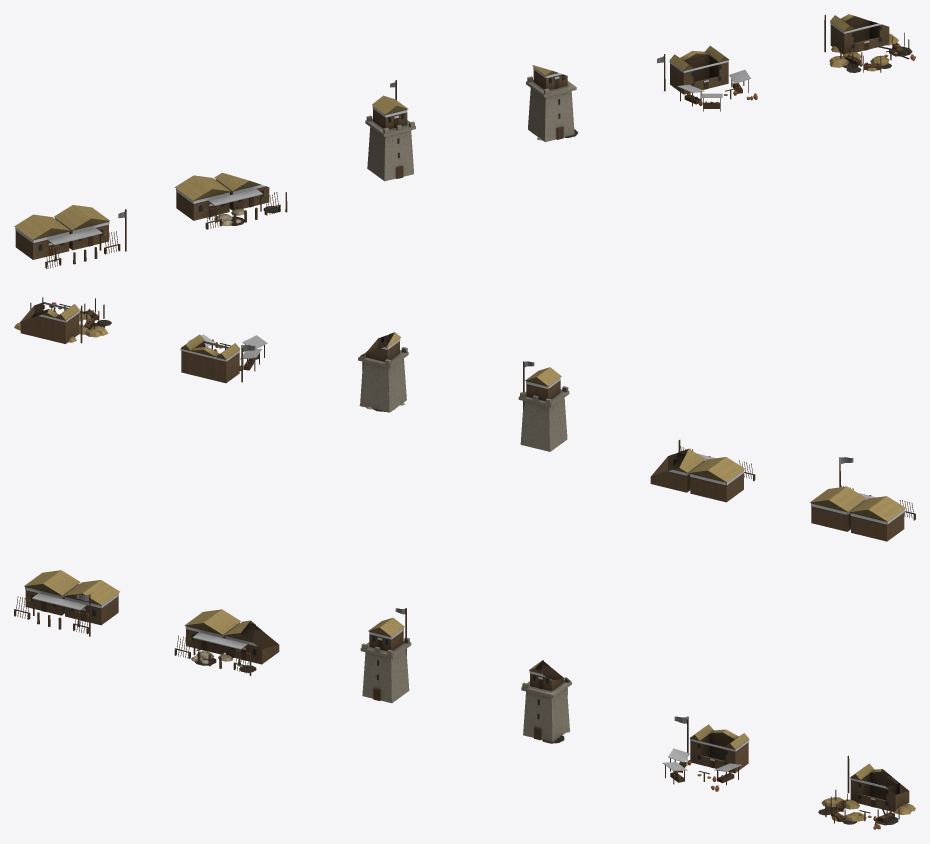
File: rts-bronze-americas-ec7ce790.glb
3 renders of one model, top to bottom at view 1: azimuth 30°, elevation 25°; view 2: azimuth 150°, elevation 25°; view 3: azimuth 330°, elevation 25°, orthographic.
Parts seen in each view (by area): view 1: LOD0, LOD0.001, LOD0.002, LOD0.005, LOD0.004, LOD0.003; view 2: LOD0, LOD0.001, LOD0.002, LOD0.003, LOD0.004, LOD0.005; view 3: LOD0.001, LOD0, LOD0.005, LOD0.002, LOD0.004, LOD0.003.
Boxes of the visible parts, box(x1,y1,x2,y2) form: LOD0: box(14, 205, 126, 268); LOD0.001: box(174, 172, 287, 229); LOD0.002: box(365, 80, 415, 181); LOD0.005: box(824, 14, 915, 72); LOD0.004: box(657, 46, 757, 111); LOD0.003: box(526, 65, 577, 141); LOD0: box(810, 457, 915, 541); LOD0.001: box(650, 440, 755, 502); LOD0.002: box(518, 361, 569, 451); LOD0.003: box(358, 332, 408, 412); LOD0.004: box(180, 334, 267, 383); LOD0.005: box(14, 297, 111, 343); LOD0.001: box(174, 609, 279, 675); LOD0: box(14, 570, 119, 636); LOD0.005: box(818, 755, 915, 829); LOD0.002: box(360, 608, 411, 703); LOD0.004: box(662, 716, 749, 791); LOD0.003: box(521, 660, 571, 743).
Size of what is drawn, in the model's own units: 16.38 by 1.48 by 1.36.
Materials: 2 (2 with a texture image).
